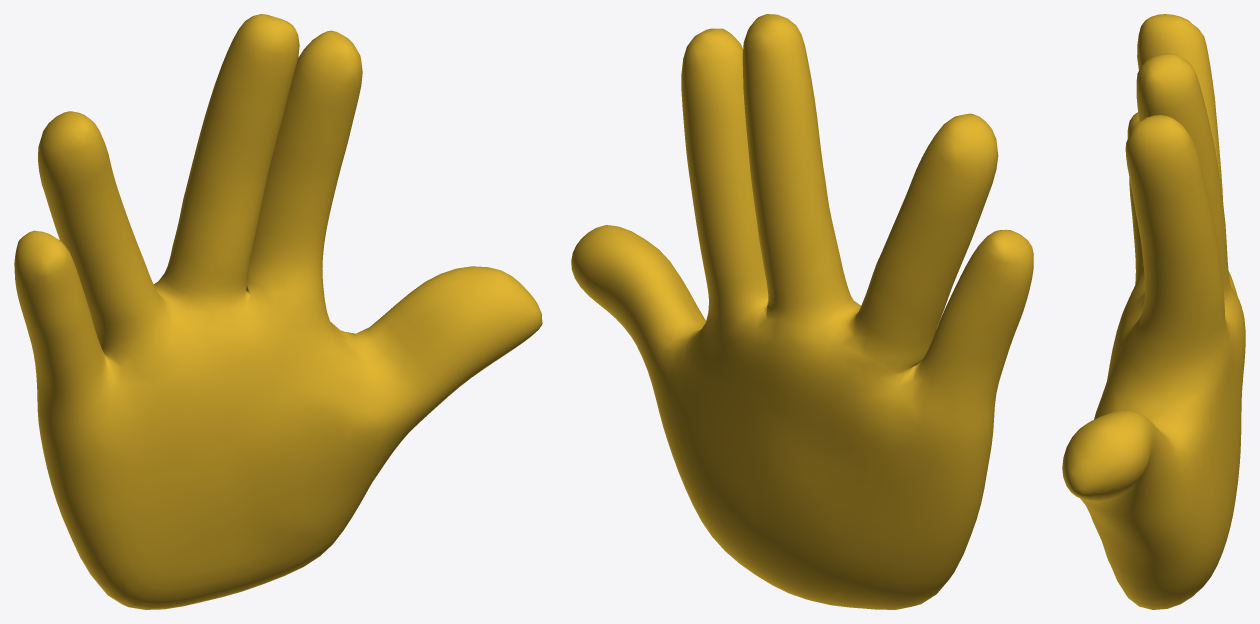
File: Vulcan salute.glb
The picture shows the model from 3 angles, left to right: view 1: azimuth 30°, elevation 25°; view 2: azimuth 150°, elevation 25°; view 3: azimuth 270°, elevation 25°; orthographic projection.
Visible parts, largest first — view 1: Group54700; view 2: Group54700; view 3: Group54700.
Boxes of the visible parts, left/top/right/bottom form: Group54700: left=14, top=14, right=542, bottom=609; Group54700: left=571, top=14, right=1033, bottom=609; Group54700: left=1062, top=14, right=1245, bottom=609.
Size of the model in its own units: 0.3508 by 0.3915 by 0.117.
